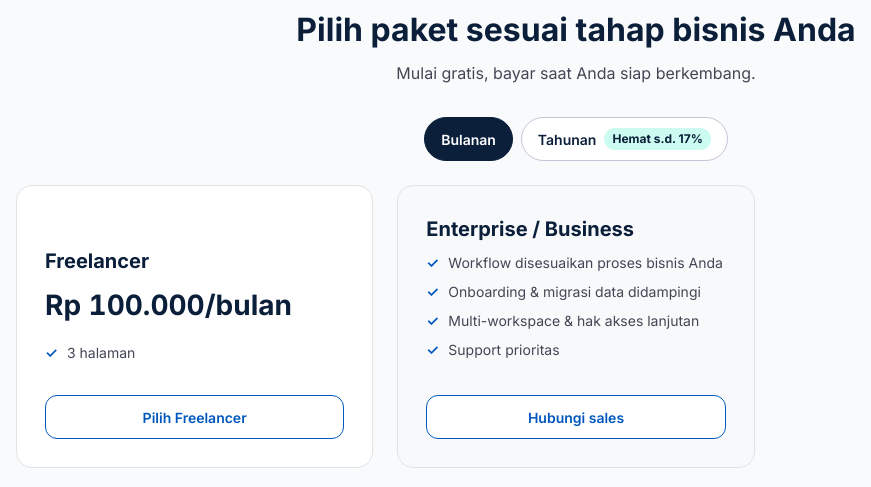
Test: CatalogPricingSlot › shows "Hemat s.d. 17%" on the toggle and per-card badge when yearly selected
Expected: the text "Hemat 17%" is not shown
What coordinates should you click on to do the following:
click the button "Tahunan Hemat s.d. 17%"
I would click on:
 (624, 139)
Its box is [521, 117, 728, 161].
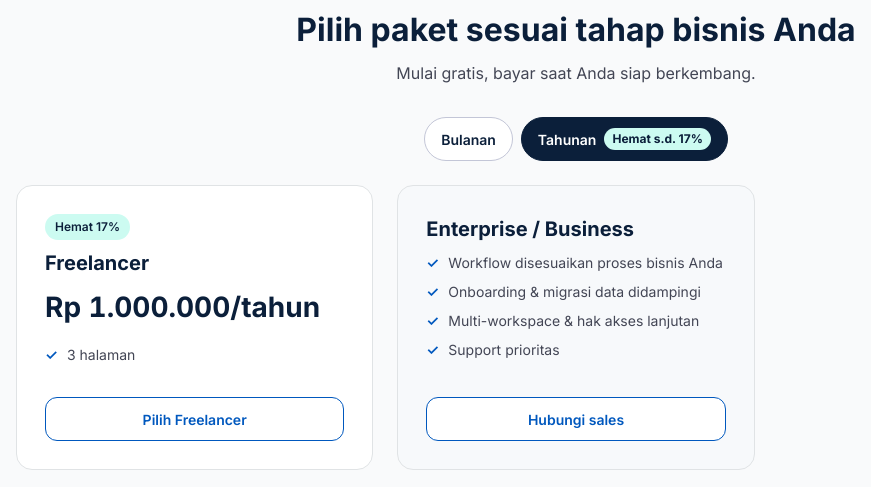
Expected: the text "Hemat 17%" is shown, [45, 214, 130, 240]
